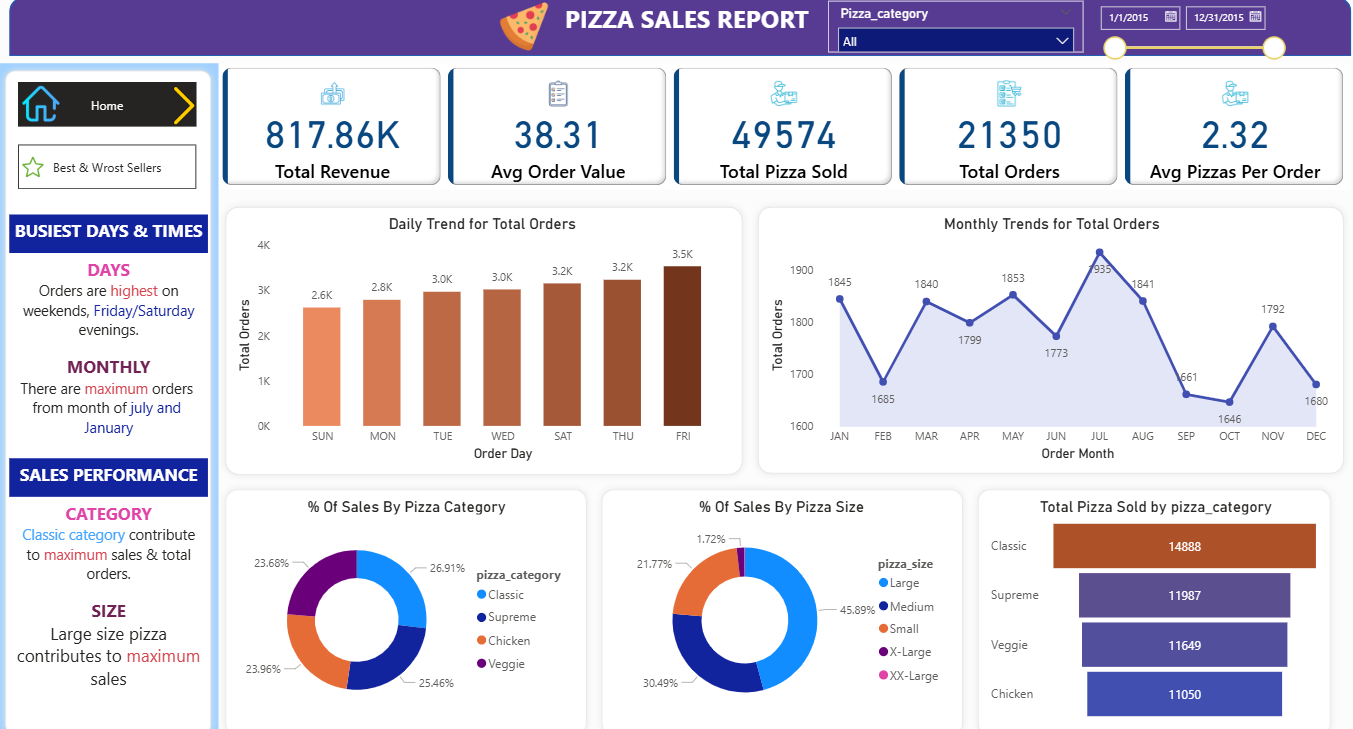

What the dashboard file says about the page in this screenshot:
{"tool":"powerbi","page":{"name":"Home","canvas":[1500,820],"ordinal":0},"visuals":[{"type":"cardVisual","fields":{"Data":["pizza_sales.Total Revenue","pizza_sales.Avg Order Value","pizza_sales.Total Pizza Sold","pizza_sales.Total Orders","pizza_sales.Avg Pizzas Per Order"]},"box":[242.1,73.2,1244.9,139.4],"z":0},{"type":"shape","box":[0,73.2,242.1,746.5],"z":1000},{"type":"shape","box":[11.8,0,1475.2,65],"z":2000},{"type":"textbox","box":[618.2,0,294.6,66.2],"z":3000},{"type":"image","box":[538.6,0,79.6,65.1],"z":4000},{"type":"shape","box":[242.1,222,584.6,310.6],"z":5000},{"type":"columnChart","title":"Daily Trend for Total Orders","fields":{"Category":["pizza_sales.Order Day"],"Y":["pizza_sales.Total Orders"]},"box":[258.7,238.6,548,276.4],"z":6000},{"type":"shape","box":[826.8,223.2,660.2,309.4],"z":7000},{"type":"areaChart","title":"Monthly Trends for Total Orders","fields":{"Category":["pizza_sales.Order Month"],"Y":["pizza_sales.Total Orders"]},"box":[843.3,238.6,629.5,276.4],"z":8000},{"type":"shape","box":[242.1,532.7,413.4,287],"z":9000},{"type":"shape","box":[655.5,532.7,413.4,287],"z":10000},{"type":"shape","box":[1068.9,532.7,403.9,287],"z":11000},{"type":"donutChart","title":"% Of Sales By Pizza Category","fields":{"Category":["pizza_sales.pizza_category"],"Y":["pizza_sales.Total Revenue"]},"box":[258.7,549.2,381.5,251.6],"z":12000},{"type":"donutChart","title":"% Of Sales By Pizza Size","fields":{"Y":["pizza_sales.Total Revenue"],"Category":["pizza_sales.pizza_size"]},"box":[670.9,549.2,381.5,251.6],"z":13000},{"type":"funnel","fields":{"Category":["pizza_sales.pizza_category"],"Y":["pizza_sales.Total Pizza Sold"]},"box":[1086.6,549.2,372,251.6],"z":14000},{"type":"textbox","box":[11.8,238.6,218.5,42.5],"z":15000},{"type":"textbox","box":[11.8,281.1,218.5,233.9],"z":16000},{"type":"textbox","box":[11.8,506.7,218.5,42.5],"z":17000},{"type":"textbox","box":[11.8,549.2,218.5,233.9],"z":18000},{"type":"slicer","fields":{"Values":["pizza_sales.pizza_category"]},"box":[911.8,3.5,281.1,56.7],"z":19000},{"type":"slicer","fields":{"Values":["pizza_sales.order_date"]},"box":[1200,0,224.4,82.7],"z":20000},{"type":"pageNavigator","box":[22,93.4,196.5,49.5],"z":21000},{"type":"pageNavigator","box":[22,162.1,196.5,49.5],"z":22000},{"type":"image","box":[22,92.1,50.8,50.8],"z":22001},{"type":"image","box":[178.6,93.4,52.2,52.2],"z":22002},{"type":"image","box":[22,170.4,33,33],"z":22003}]}

Visuals, with their boxes in screenshot pixels (x1, y1, x2, y2), scaled from the page's 1500x820 canvas onto the 1353x729 screenshot:
cardVisual - pizza_sales.Total Revenue x pizza_sales.Avg Order Value: bbox=(218, 65, 1341, 189)
shape: bbox=(0, 65, 218, 728)
shape: bbox=(11, 0, 1341, 58)
textbox: bbox=(558, 0, 823, 59)
image: bbox=(486, 0, 558, 58)
shape: bbox=(218, 197, 746, 473)
"Daily Trend for Total Orders" columnChart: bbox=(233, 212, 728, 458)
shape: bbox=(746, 198, 1341, 473)
"Monthly Trends for Total Orders" areaChart: bbox=(761, 212, 1328, 458)
shape: bbox=(218, 474, 591, 728)
shape: bbox=(591, 474, 964, 728)
shape: bbox=(964, 474, 1328, 728)
"% Of Sales By Pizza Category" donutChart: bbox=(233, 488, 577, 712)
"% Of Sales By Pizza Size" donutChart: bbox=(605, 488, 949, 712)
funnel - pizza_sales.pizza_category x pizza_sales.Total Pizza Sold: bbox=(980, 488, 1316, 712)
textbox: bbox=(11, 212, 208, 250)
textbox: bbox=(11, 250, 208, 458)
textbox: bbox=(11, 450, 208, 488)
textbox: bbox=(11, 488, 208, 696)
slicer - pizza_sales.pizza_category: bbox=(822, 3, 1076, 54)
slicer - pizza_sales.order_date: bbox=(1082, 0, 1285, 74)
pageNavigator: bbox=(20, 83, 197, 127)
pageNavigator: bbox=(20, 144, 197, 188)
image: bbox=(20, 82, 66, 127)
image: bbox=(161, 83, 208, 129)
image: bbox=(20, 151, 50, 181)
